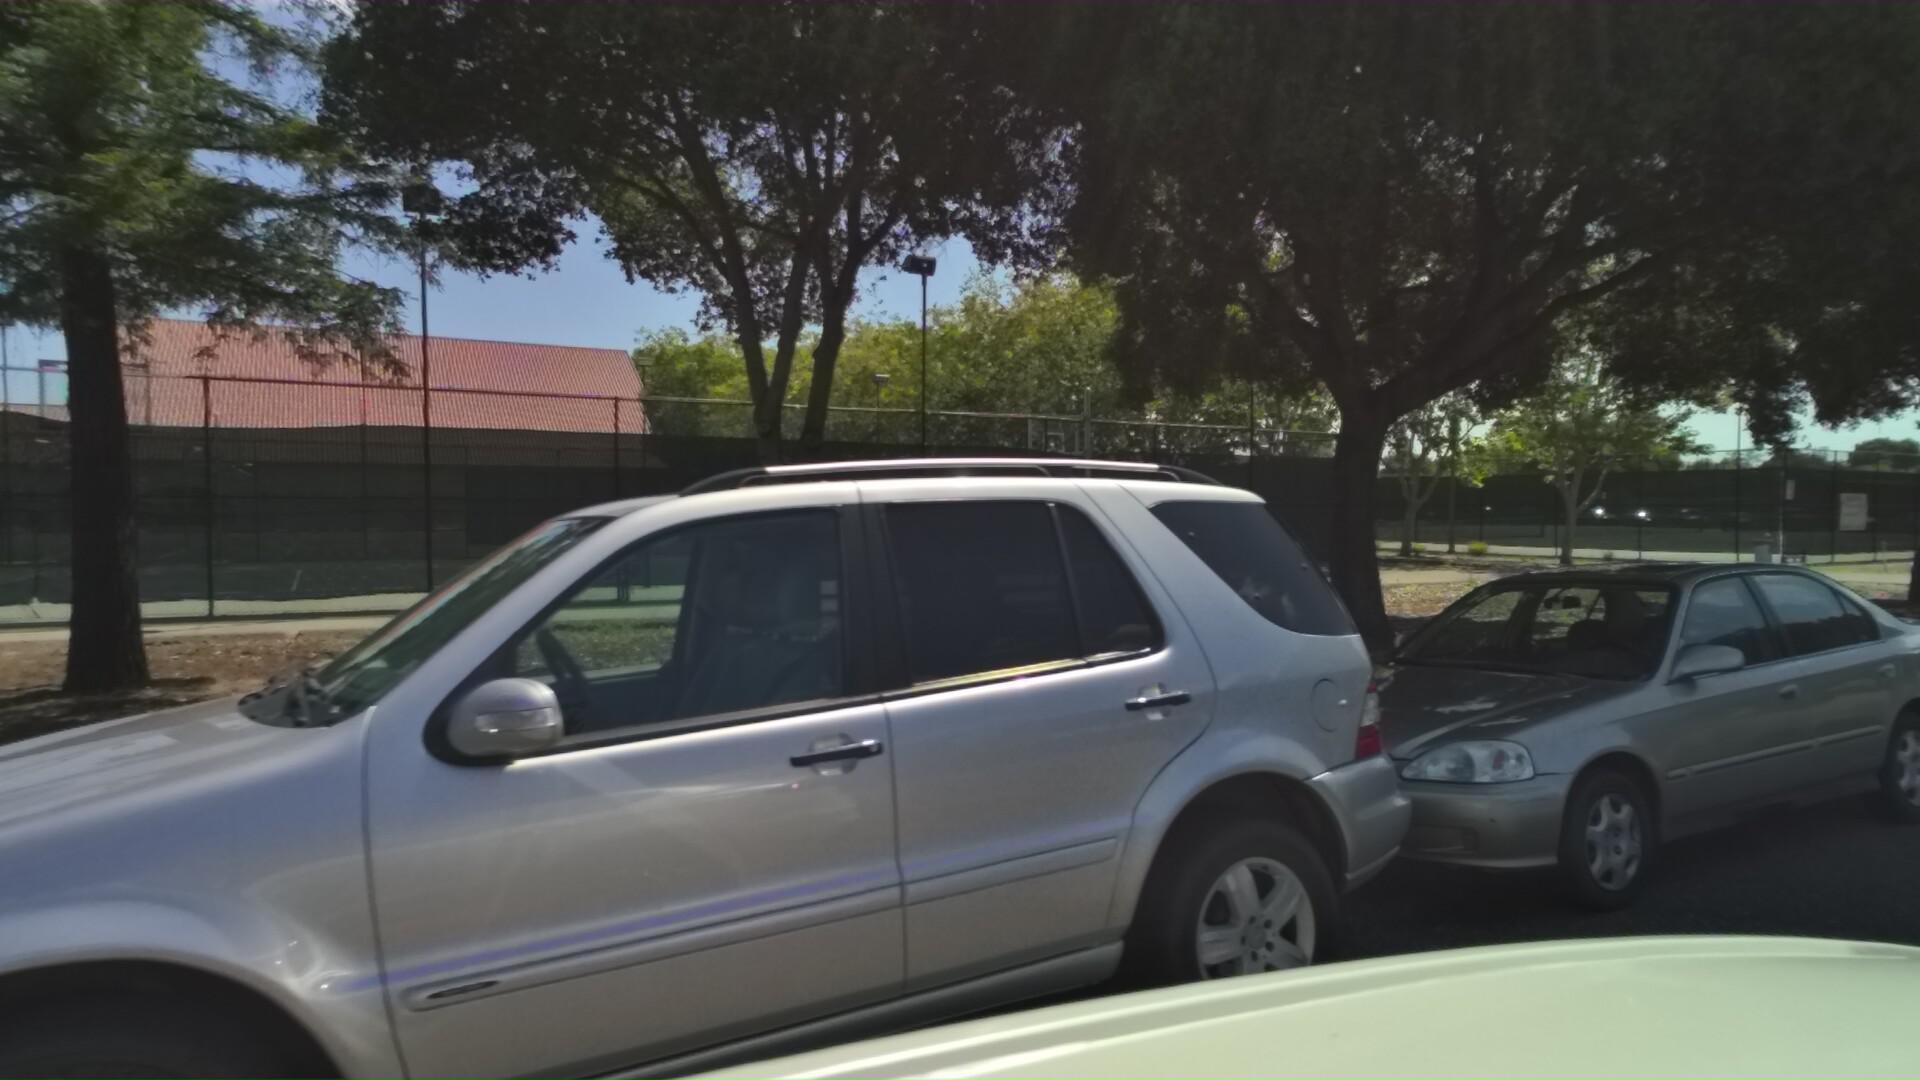car: (0, 345, 1604, 1080), (1249, 533, 1920, 978)
